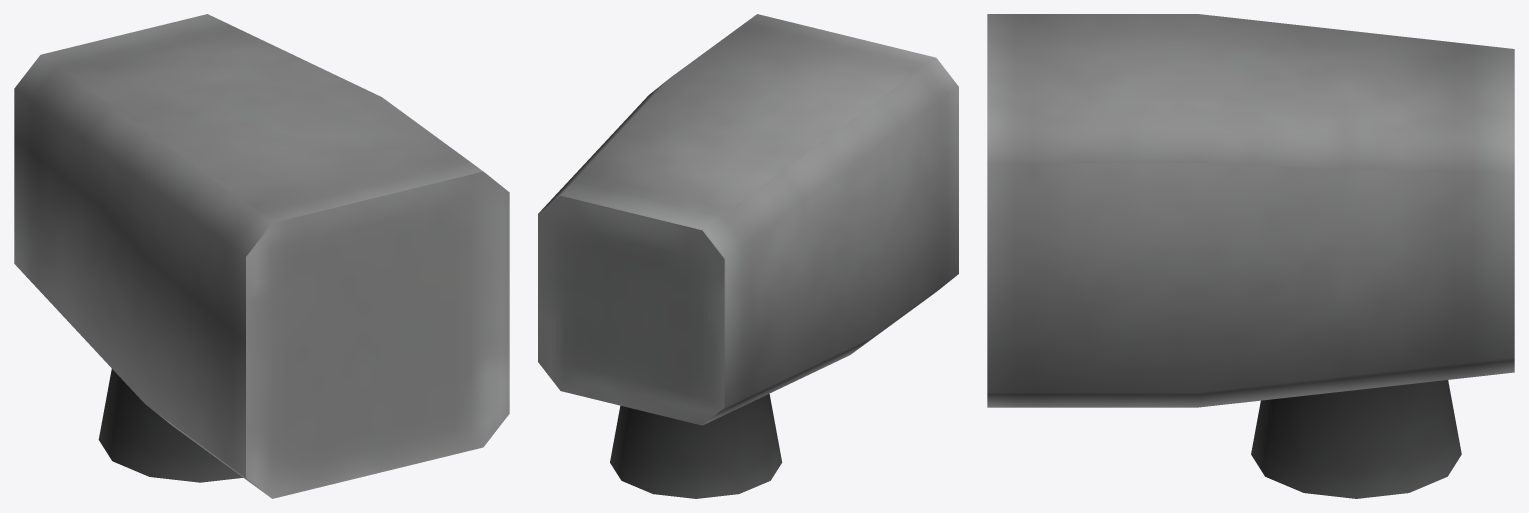
File: octans_rcs_srf_1.obj
3 views of the same model, side by side, from view 1: azimuth 30°, elevation 25°; view 2: azimuth 150°, elevation 25°; view 3: azimuth 270°, elevation 25° (orthographic). The views are drawn at different scales.
Visible parts, largest first — view 1: mesh; view 2: mesh; view 3: mesh.
Boxes of the visible parts, x1=… form: mesh: x1=14, y1=14, x2=509, y2=498; mesh: x1=538, y1=14, x2=958, y2=498; mesh: x1=987, y1=14, x2=1514, y2=498.
Size of the model in its own units: 0.075 by 0.1013 by 0.125.
Materials: 1 (1 with a texture image).
